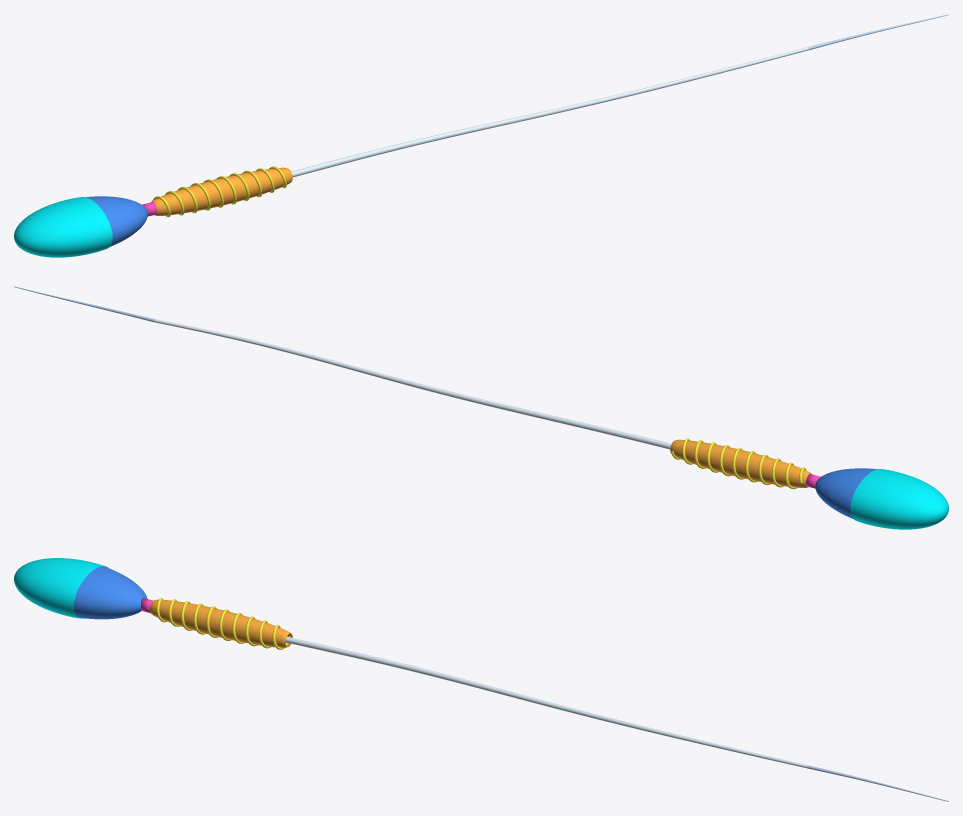
File: 13_Pieza_intermedia_gruesa.glb
3 renders of one model, top to bottom at view 1: azimuth 30°, elevation 25°; view 2: azimuth 150°, elevation 25°; view 3: azimuth 330°, elevation 25°, orthographic.
Visible parts, largest first — view 1: Cubierta_acrosomal_didactica.001, Cola_pieza_principal.001, Pieza_intermedia_gruesa, Cabeza_nucleo.001, Helice_mitocondrial_pieza_gruesa; view 2: Cubierta_acrosomal_didactica.001, Cola_pieza_principal.001, Pieza_intermedia_gruesa, Cabeza_nucleo.001, Helice_mitocondrial_pieza_gruesa; view 3: Cubierta_acrosomal_didactica.001, Cola_pieza_principal.001, Cabeza_nucleo.001, Pieza_intermedia_gruesa, Helice_mitocondrial_pieza_gruesa.
Part boxes in pixels (x1,y1,x2,y2): Cubierta_acrosomal_didactica.001: (14,197,112,257); Cola_pieza_principal.001: (291,47,808,177); Pieza_intermedia_gruesa: (151,167,292,215); Cabeza_nucleo.001: (86,196,147,246); Helice_mitocondrial_pieza_gruesa: (152,166,286,217); Cubierta_acrosomal_didactica.001: (850,469,948,529); Cola_pieza_principal.001: (154,319,671,449); Pieza_intermedia_gruesa: (670,439,811,487); Cabeza_nucleo.001: (815,468,876,518); Helice_mitocondrial_pieza_gruesa: (671,438,805,489); Cubierta_acrosomal_didactica.001: (14,558,108,618); Cola_pieza_principal.001: (285,636,807,768); Cabeza_nucleo.001: (73,566,147,619); Pieza_intermedia_gruesa: (150,599,292,647); Helice_mitocondrial_pieza_gruesa: (156,598,290,649).
Size of the model in its own units: 62.85 by 2.93 by 4.65.
